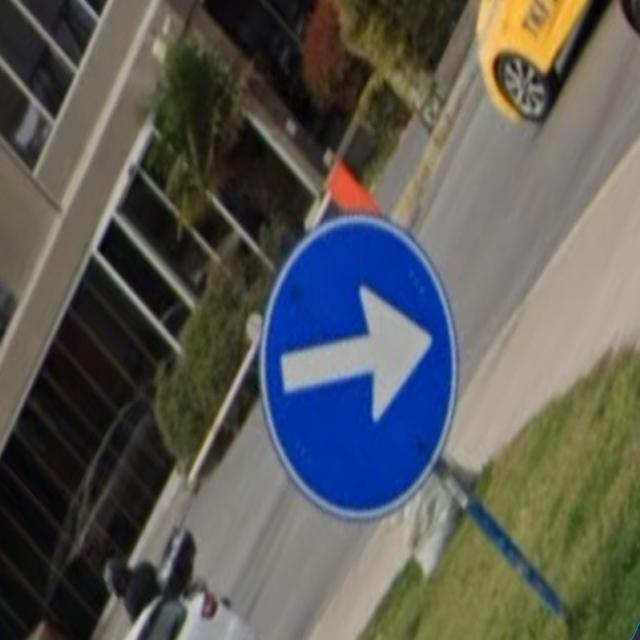Turn Right: (255, 213, 457, 521)
